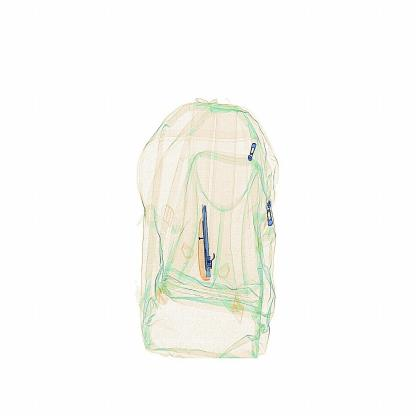pliers: (194, 201, 218, 285)
